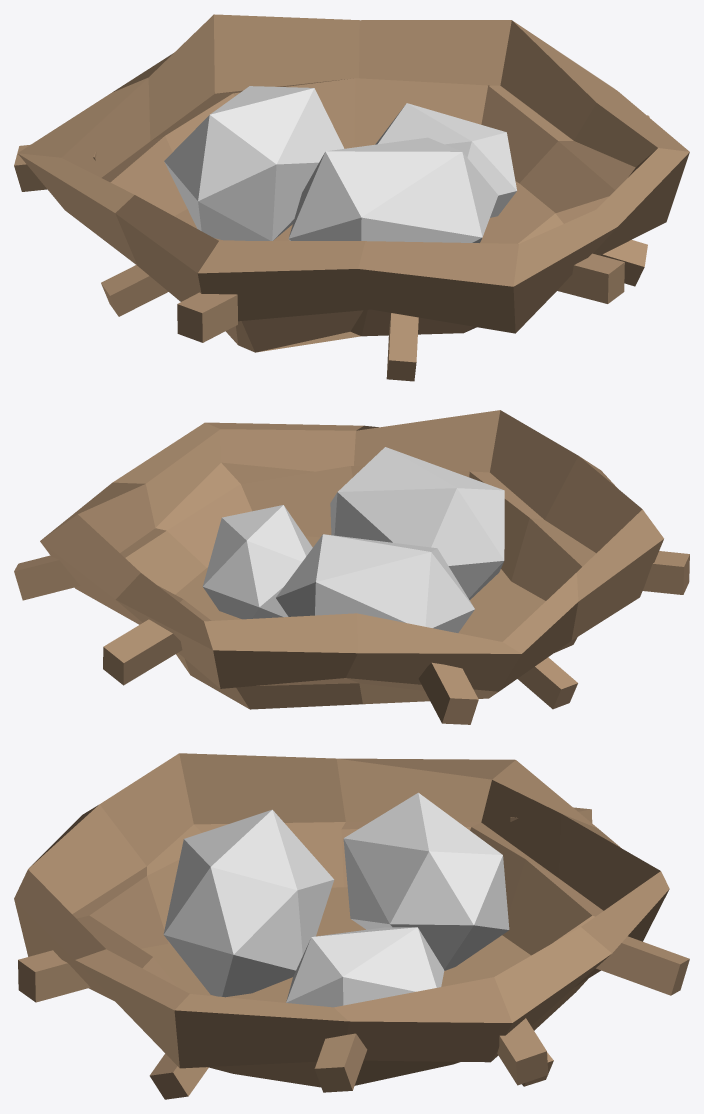
Rendered from Eggs-col.glb.
3 renders of one model, top to bottom at view 1: azimuth 30°, elevation 25°; view 2: azimuth 150°, elevation 25°; view 3: azimuth 270°, elevation 25°, orthographic. The views are drawn at different scales.
Visible parts, largest first — view 1: Eggs-col; view 2: Eggs-col; view 3: Eggs-col.
Part boxes in pixels (<box>): Eggs-col: <box>14,14,689,381</box>; Eggs-col: <box>14,410,689,724</box>; Eggs-col: <box>14,753,689,1099</box>.
Bounding box in the file's own units: 3 × 0.8232 × 3.11.
